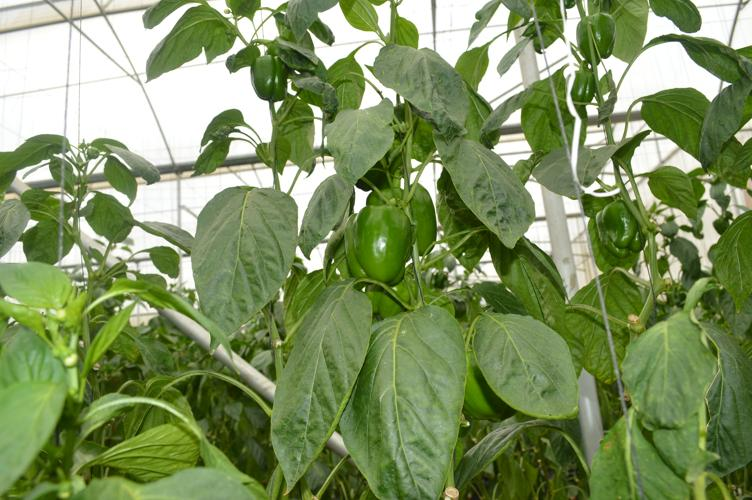BellPepper: (343, 198, 411, 289), (589, 196, 646, 267), (568, 7, 623, 67), (249, 46, 297, 114)
